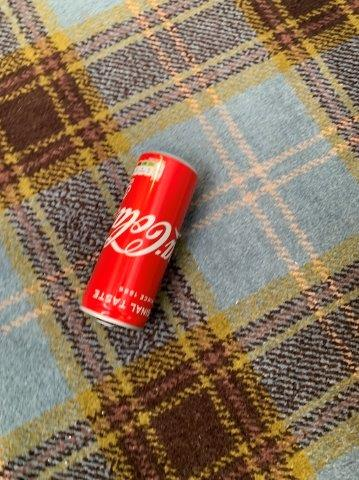kaleng: (82, 152, 197, 330)
